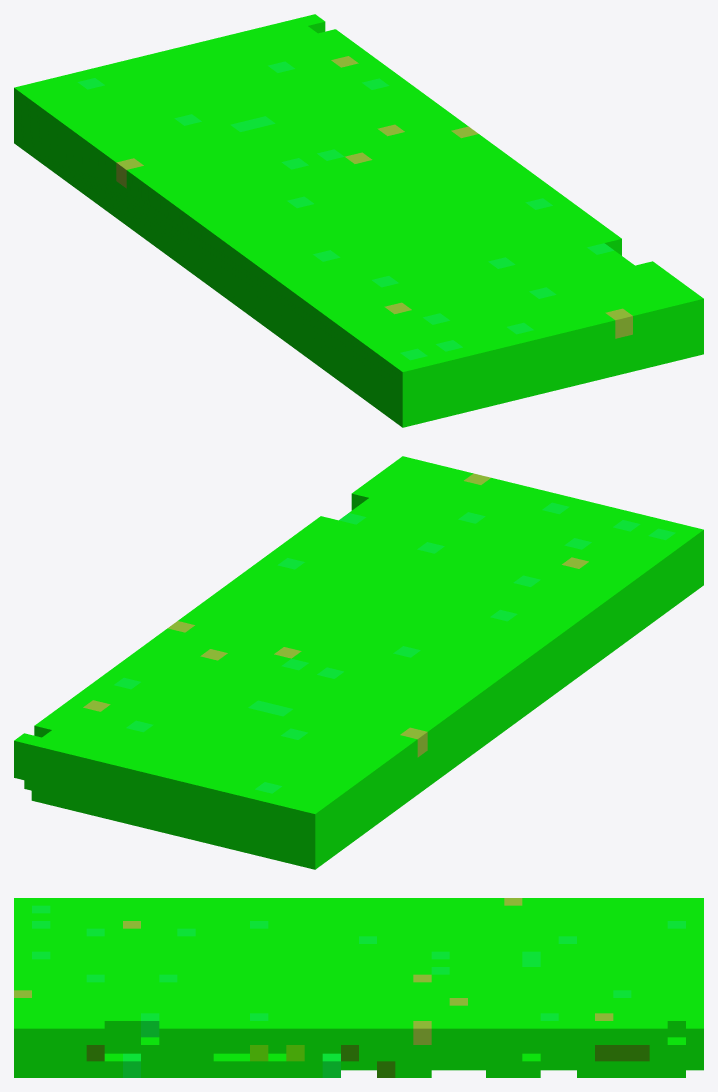
The model's file is floor.fbx.
3 renders of one model, top to bottom at view 1: azimuth 30°, elevation 25°; view 2: azimuth 150°, elevation 25°; view 3: azimuth 270°, elevation 25°, orthographic. The views are drawn at different scales.
Visible parts, largest first — view 1: ObjObject; view 2: ObjObject; view 3: ObjObject.
Boxes of the visible parts, bbox=[...] form: ObjObject: bbox=[14, 14, 703, 427]; ObjObject: bbox=[14, 456, 703, 869]; ObjObject: bbox=[14, 898, 703, 1077].
Size of the model in its own units: 170 by 30 by 380.
1 material, 1 textured.
